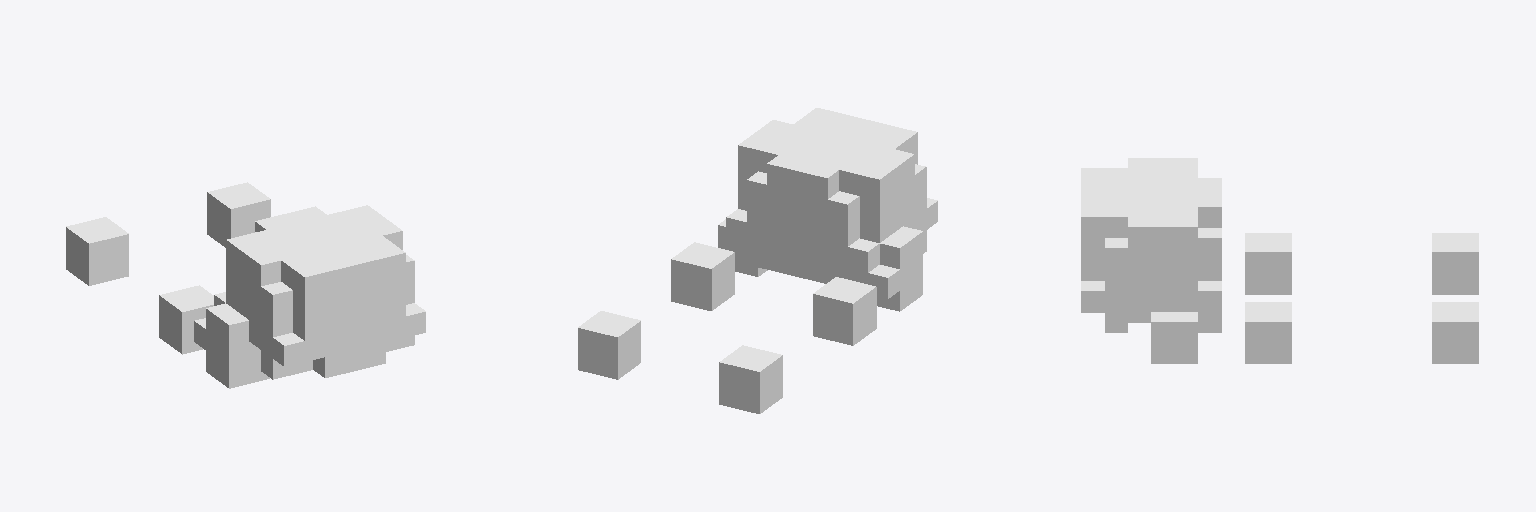
Rendered from ArmoredLorryBase.obj.
The picture shows the model from 3 angles: view 1: azimuth 30°, elevation 25°; view 2: azimuth 150°, elevation 25°; view 3: azimuth 270°, elevation 25°; orthographic projection.
Visible parts, largest first — view 1: object 1; view 2: object 1; view 3: object 1.
Part boxes in pixels (x1,y1,x2,y2): object 1: (66,182,425,388); object 1: (578,108,937,413); object 1: (1081,158,1478,363).
Size of the model in its own units: 0.9 by 0.6 by 1.7.